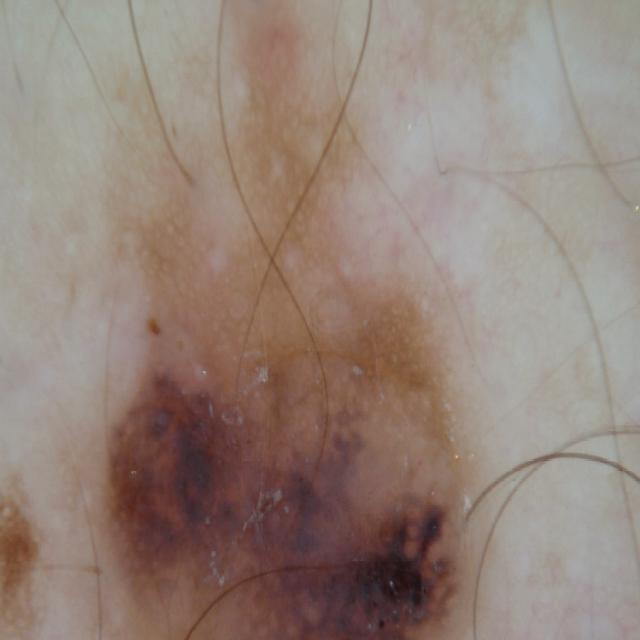Melanoma: (60, 296, 544, 640), (0, 439, 52, 624)
